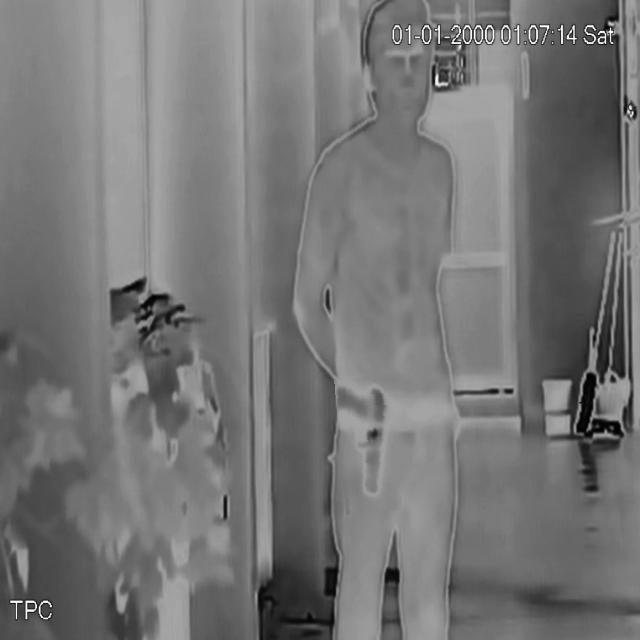Weapon: (337, 376, 400, 514)
